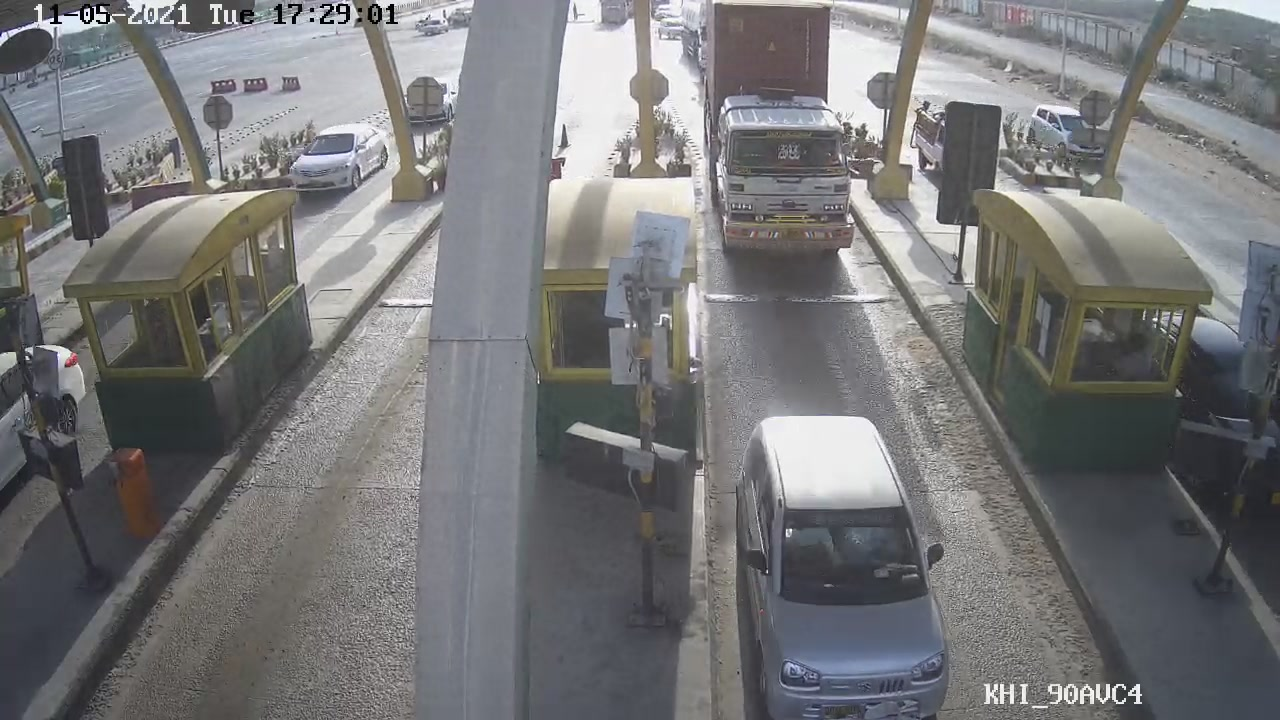F6: (685, 17, 881, 258)
